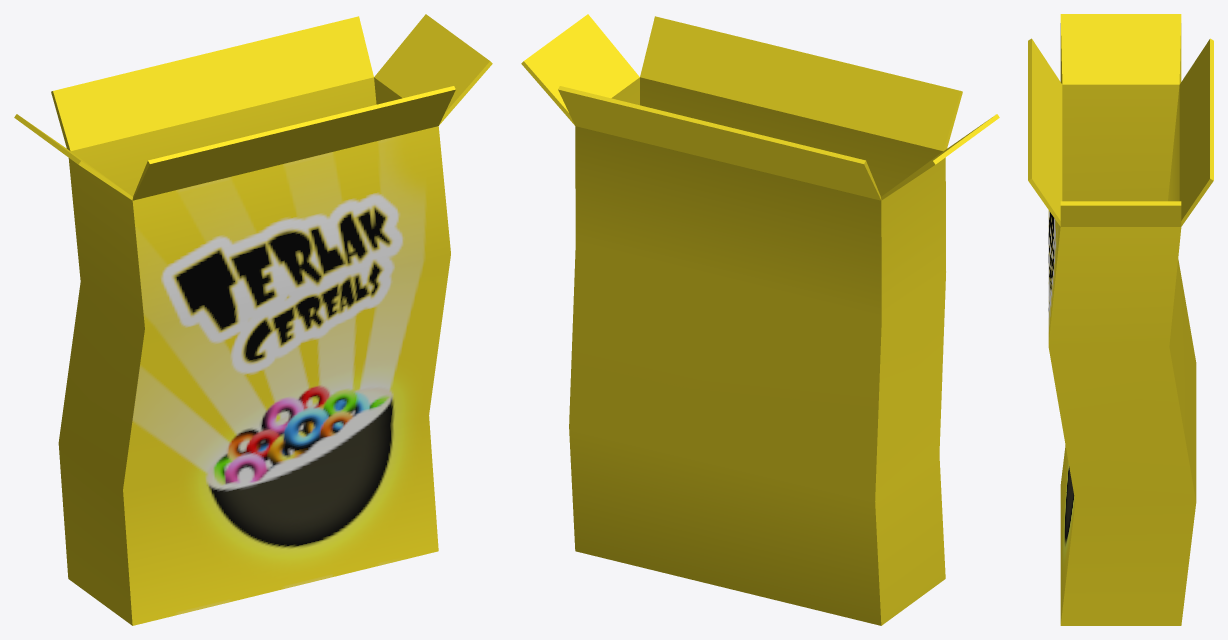
The model's file is Cereal_B.fbx.
The picture shows the model from 3 angles, left to right: view 1: azimuth 30°, elevation 25°; view 2: azimuth 150°, elevation 25°; view 3: azimuth 270°, elevation 25°; orthographic projection. The views are drawn at different scales.
Parts seen in each view (by area): view 1: Cereal_B; view 2: Cereal_B; view 3: Cereal_B.
Boxes of the visible parts, x1,y1,x2,y2 form: Cereal_B: (14,14,492,625); Cereal_B: (521,14,999,625); Cereal_B: (1028,14,1213,625).
Size of the model in its own units: 10.24 by 11.28 by 4.24.
